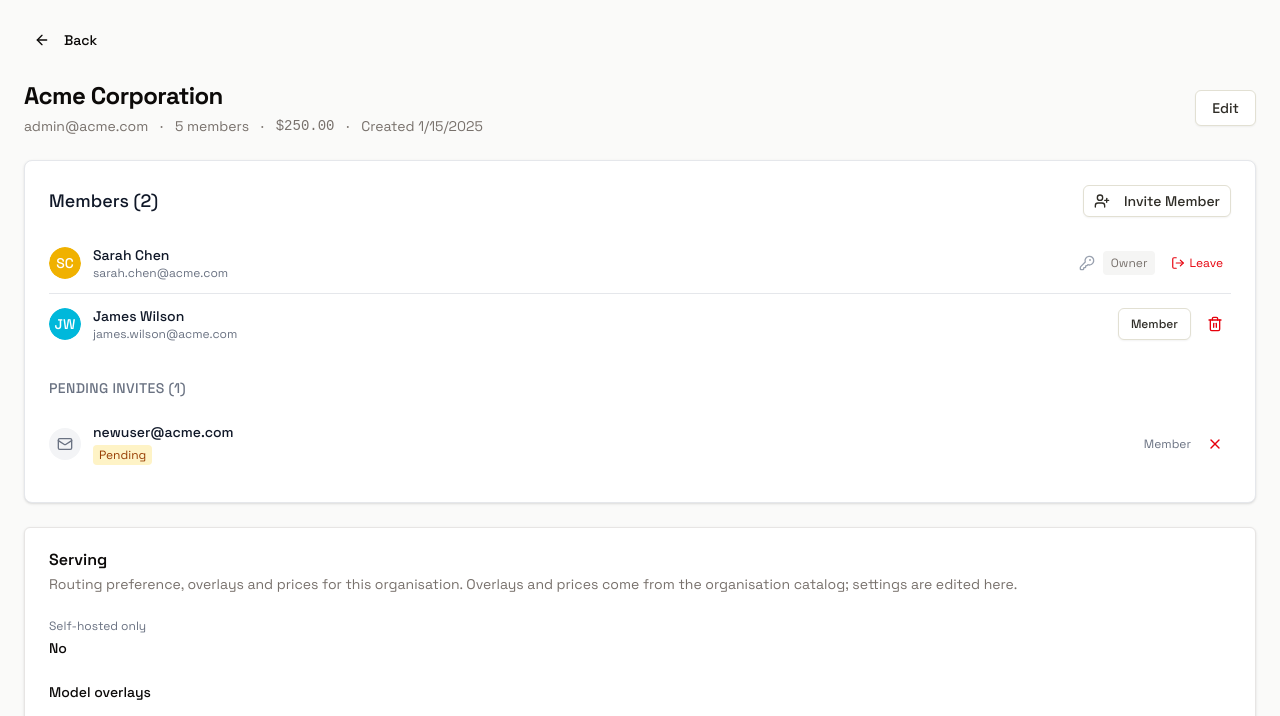
OrganizationDetail › keeps admin membership distinct from platform support
The width and height of the screenshot is (1280, 716).
Check: the heading "Acme Corporation" is shown, box [24,80,223,111]
Click the button "Edit": (1226, 108) [1195,90,1256,126]
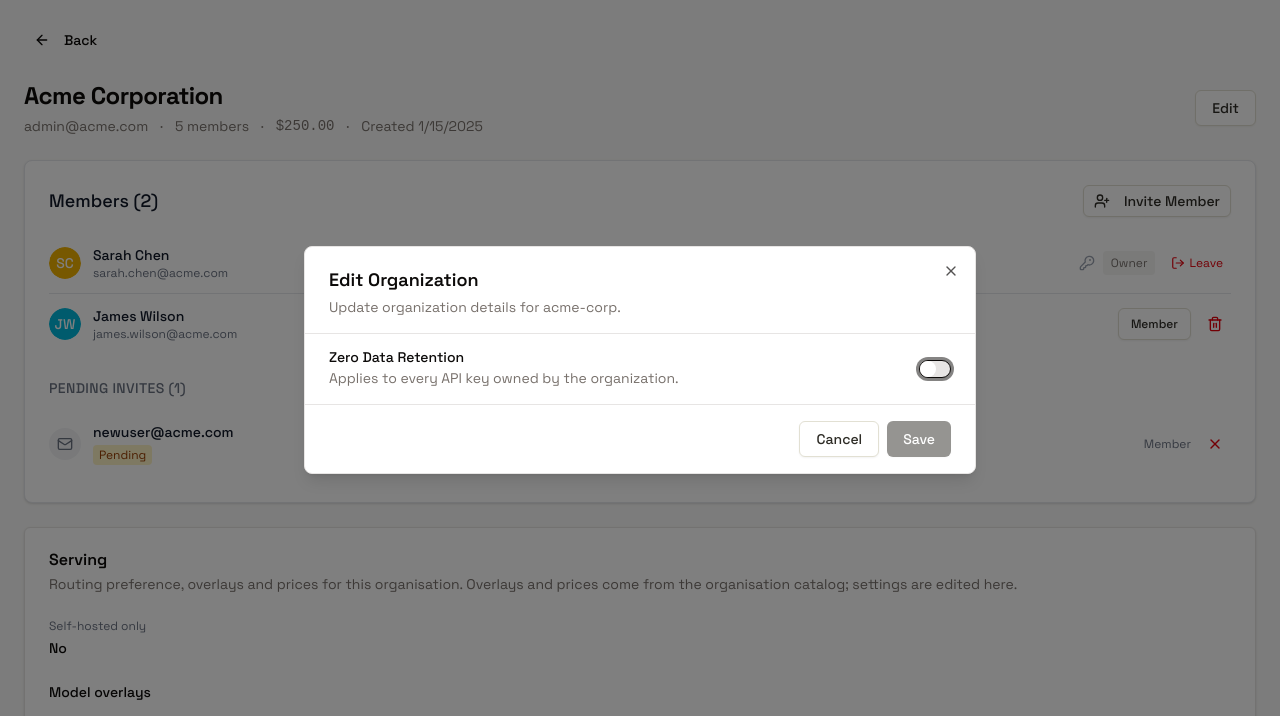
Check: the switch named "zero data retention" is shown, box [919,360,951,378]
